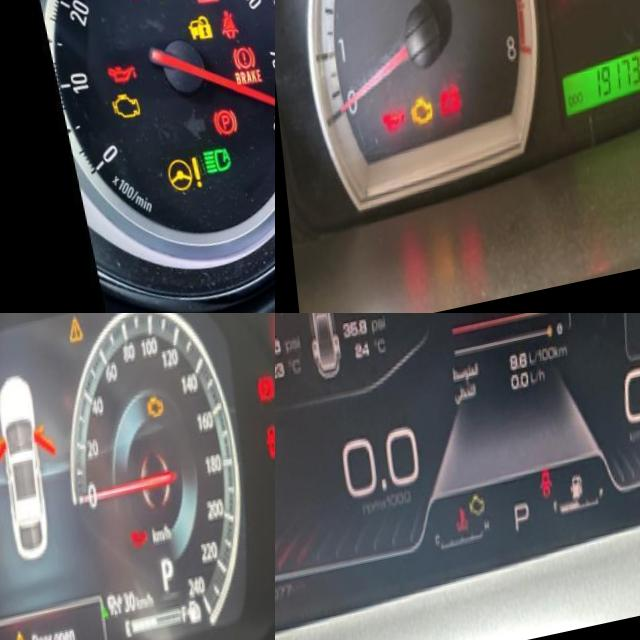Electronic Power Steering: (157, 158, 194, 202)
High Engine Coolant Temperature: (442, 517, 459, 548)
Seat Belt: (212, 16, 232, 52)
